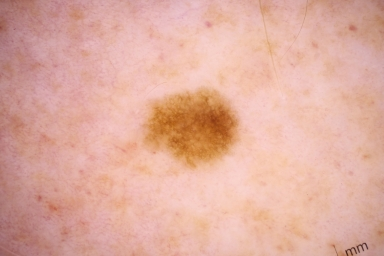melanoma: (139, 88, 242, 167)
